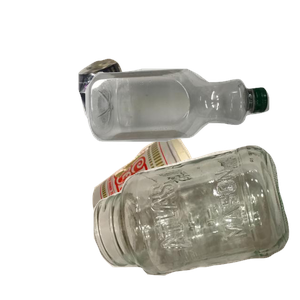glass: (91, 143, 300, 300)
metal: (75, 56, 198, 185)
plastic: (83, 66, 300, 201)
trash: (90, 129, 295, 300)
